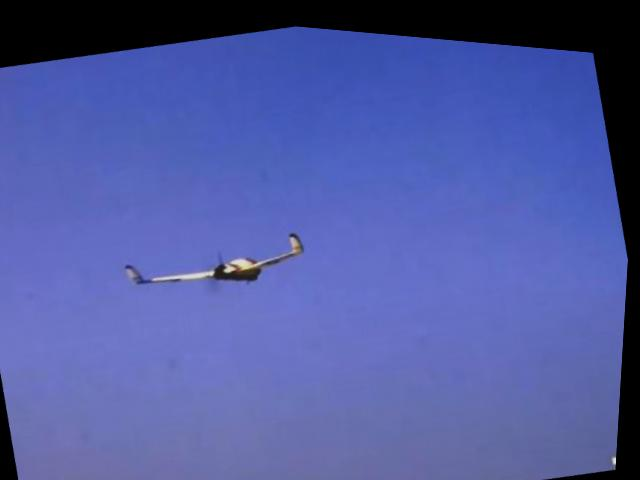iha: (116, 207, 323, 314)
